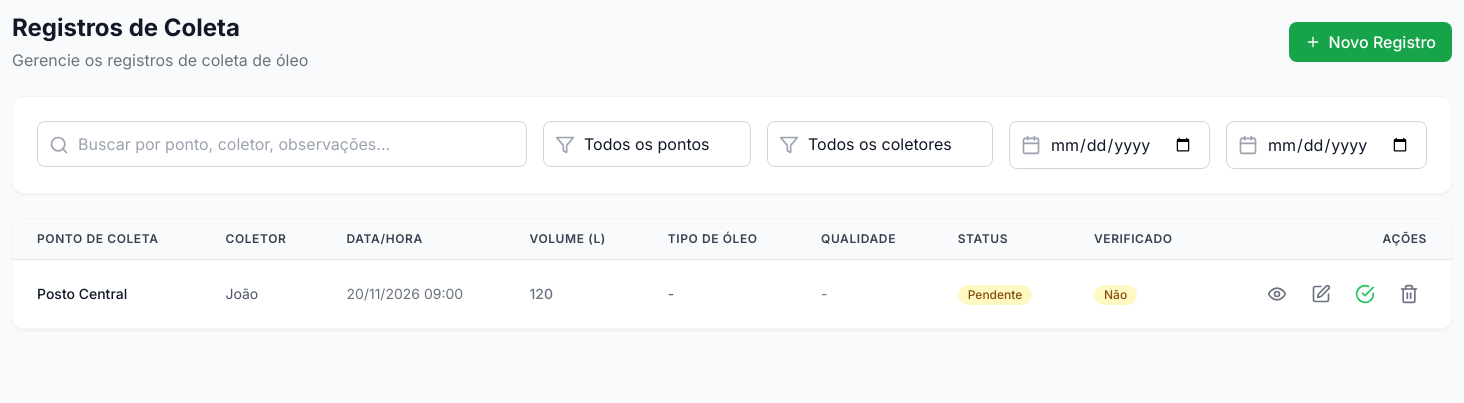
RecordsPage › renders records and filters by search
Expected: the heading "Registros de Coleta" is shown, [12, 13, 240, 42]
Type "inexistente" into the field with placeholder "Buscar por ponto, coletor, observações..." at (282,144), box [37, 121, 527, 167]
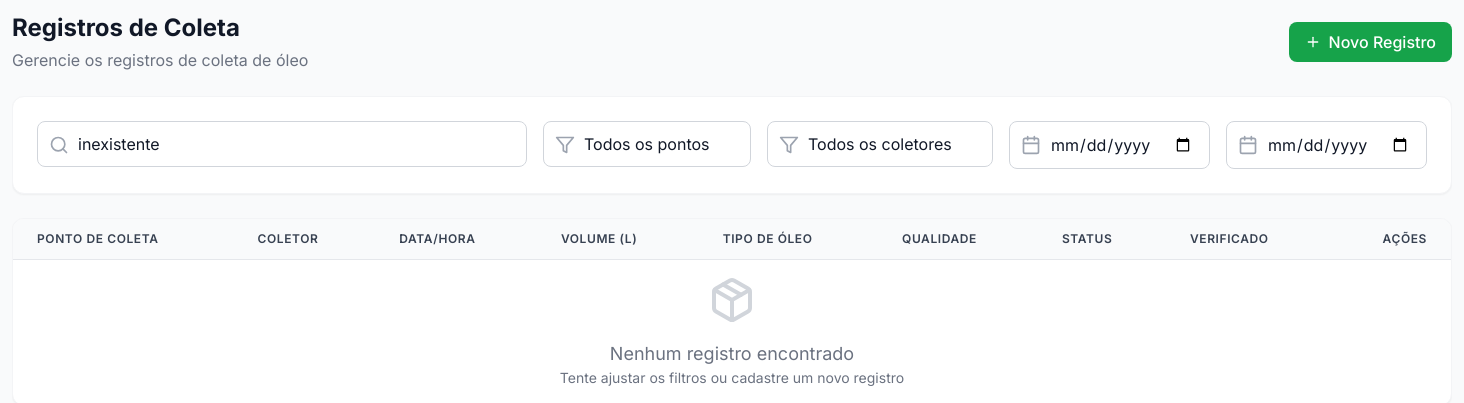
Result: the text "Nenhum registro encontrado" is shown at [610, 343, 854, 364]
